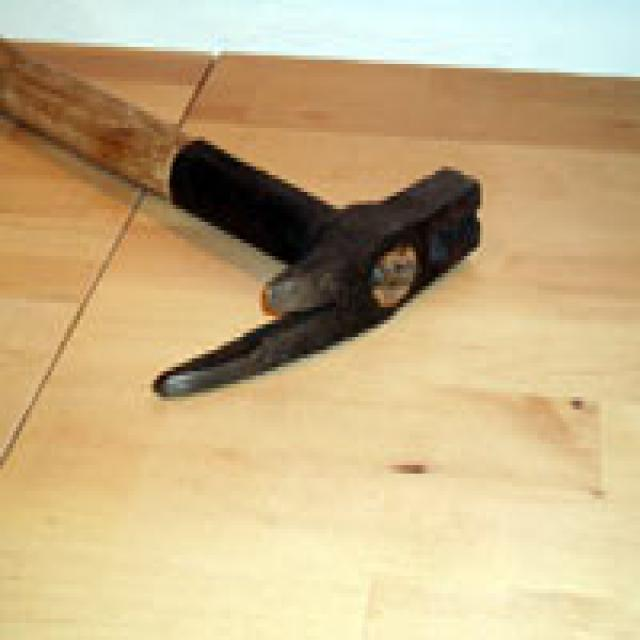hammer: (0, 28, 492, 406)
